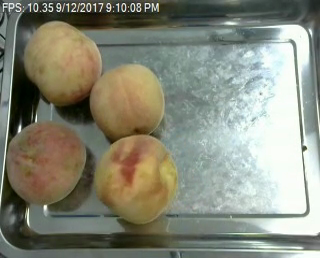Peach: (94, 134, 176, 222), (23, 20, 102, 105), (6, 121, 85, 204), (89, 62, 165, 140)
